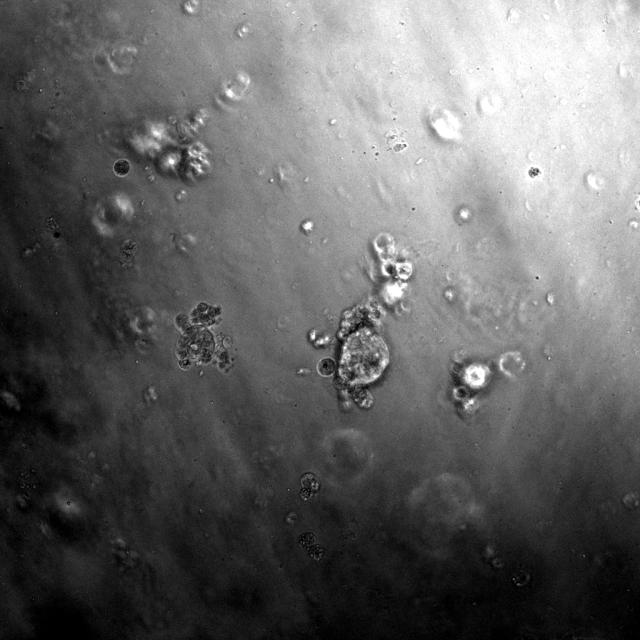organoid: (318, 234, 413, 410), (123, 111, 212, 181), (174, 301, 234, 372), (449, 348, 495, 416), (299, 532, 324, 560), (300, 472, 320, 500), (119, 239, 138, 268), (309, 329, 332, 348), (511, 570, 530, 587), (113, 158, 129, 177), (622, 492, 639, 509), (491, 556, 504, 569)
